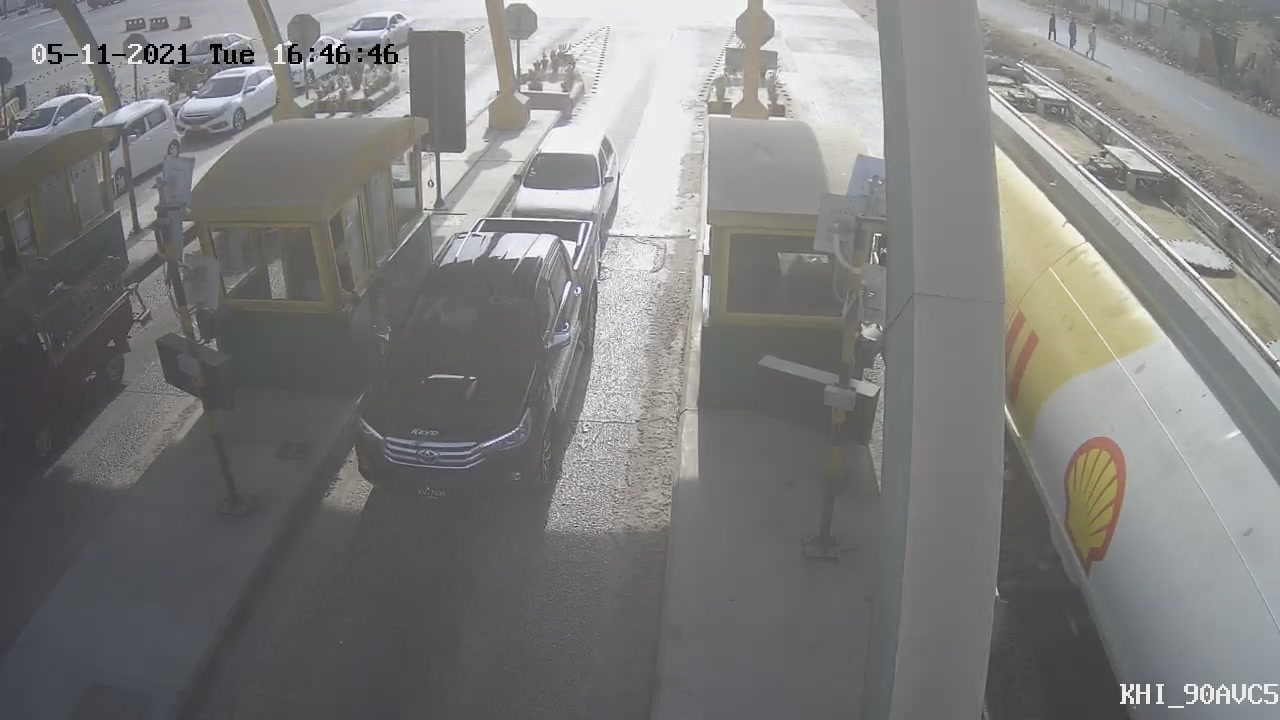F1: (343, 208, 621, 535)
